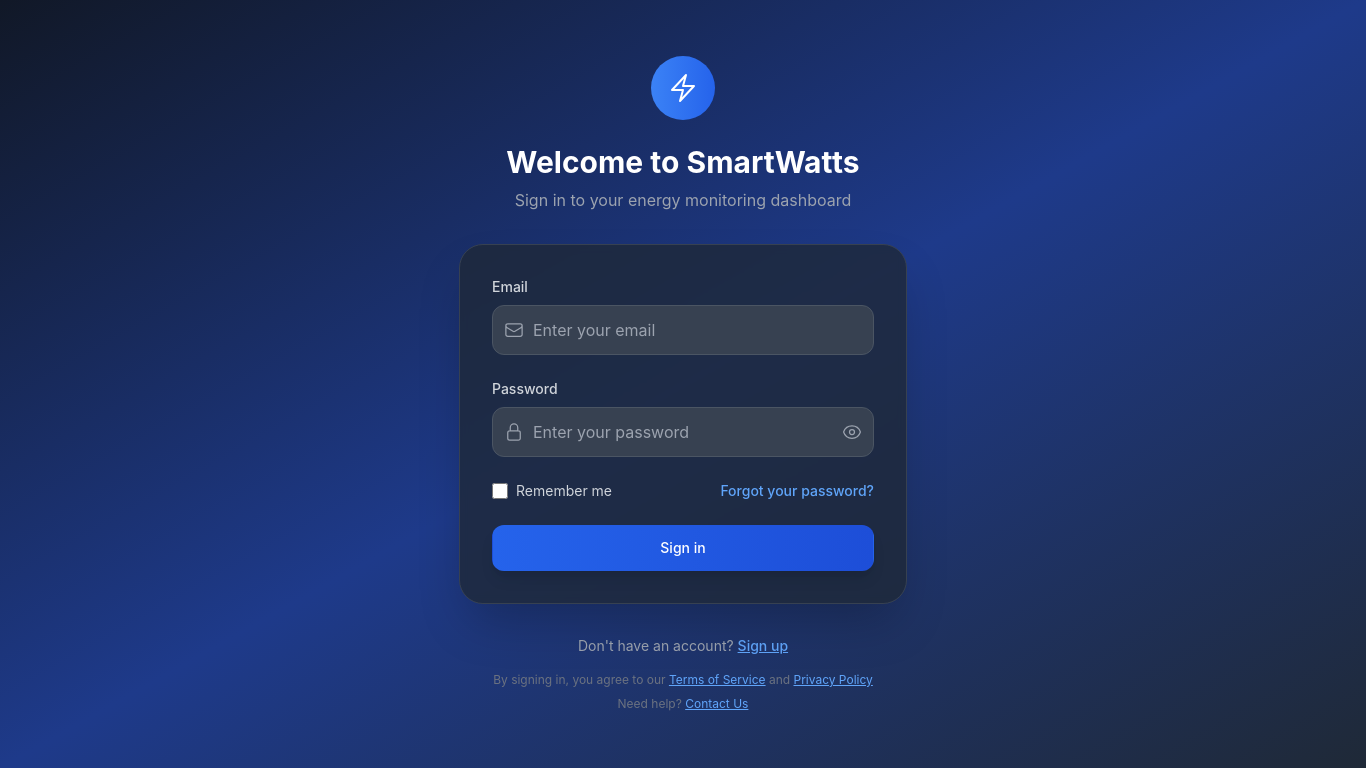
Test: Login Page › shows loading state during login
This screenshot has width=1366, height=768.
Step 1. Type "test@example.com" into the field labelled "Email" → (683, 330), box [492,305,874,355]
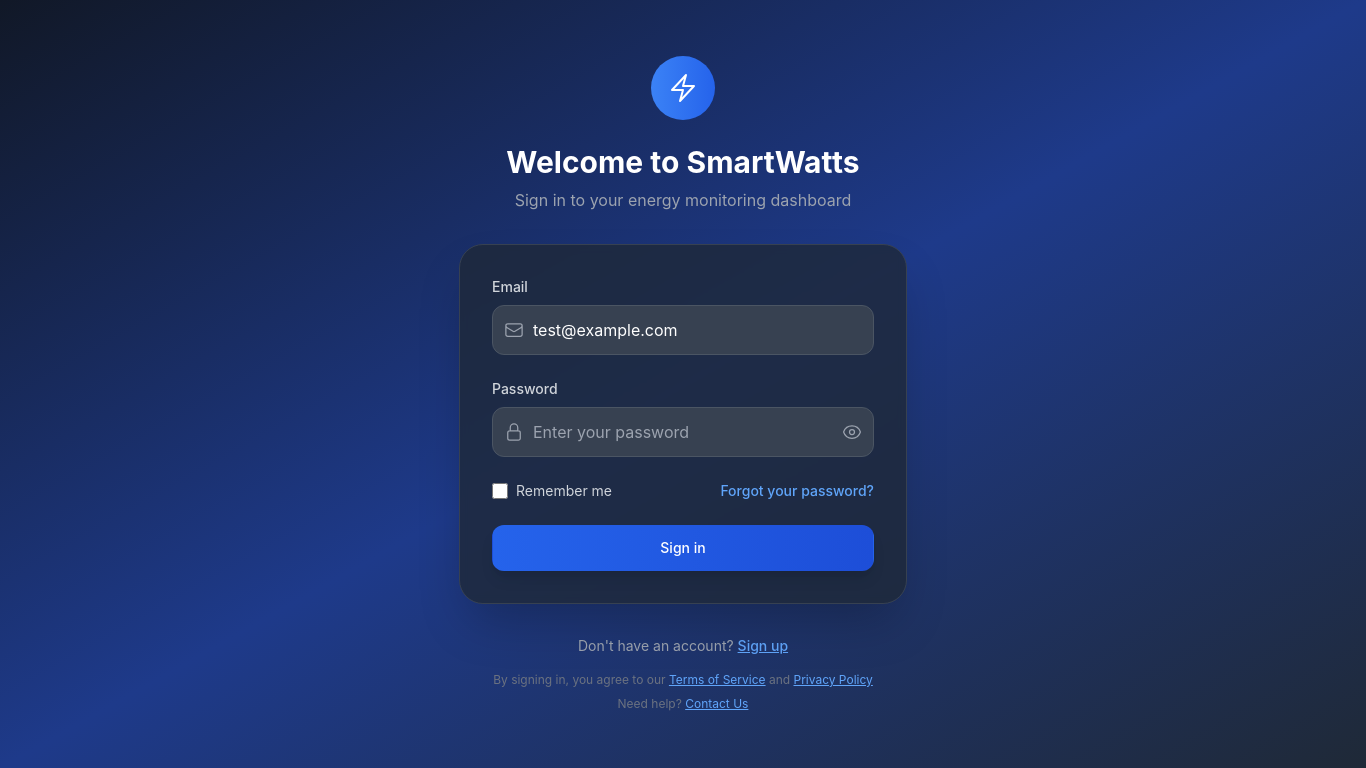
Step 2. Type "password123" into the password field labelled "Password" → (683, 432), box [492,407,874,457]
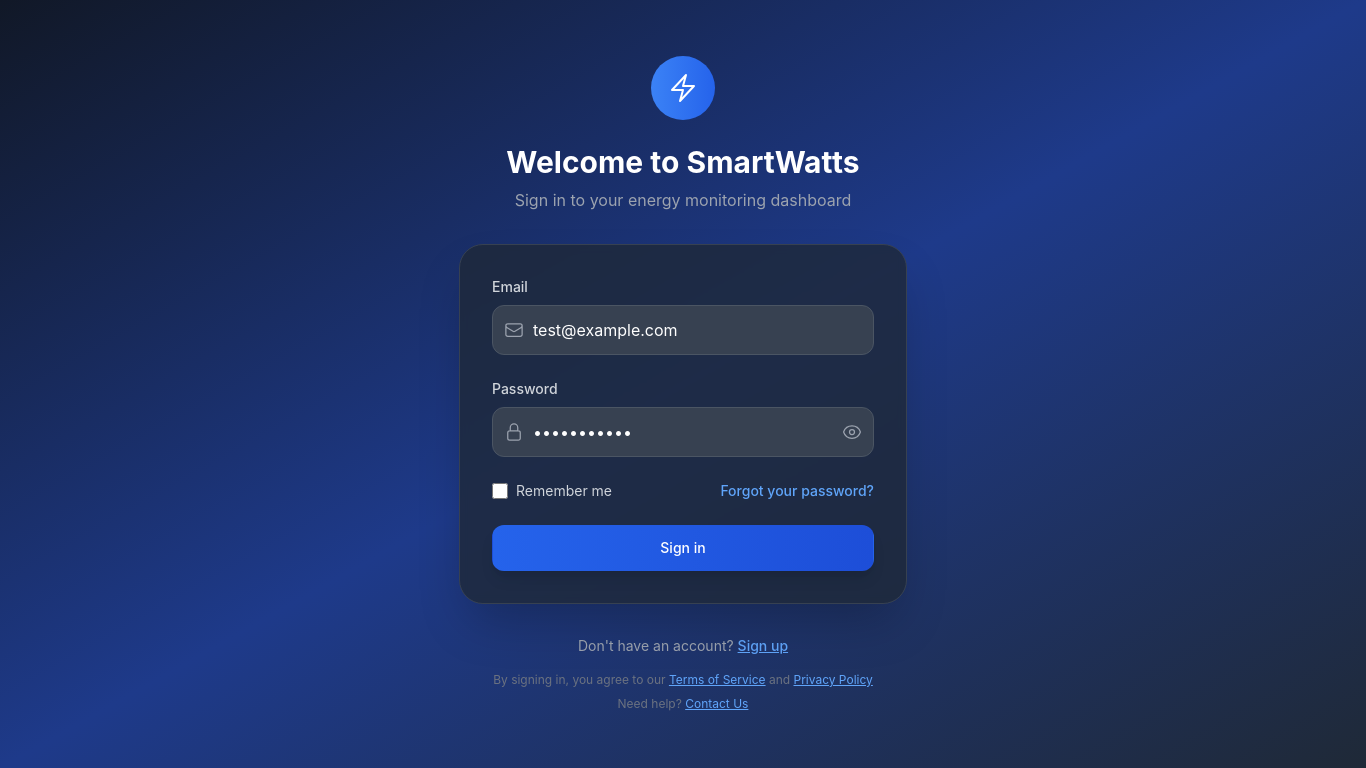
Step 3. Click the button "Sign in" → (683, 548), box [492,525,874,571]
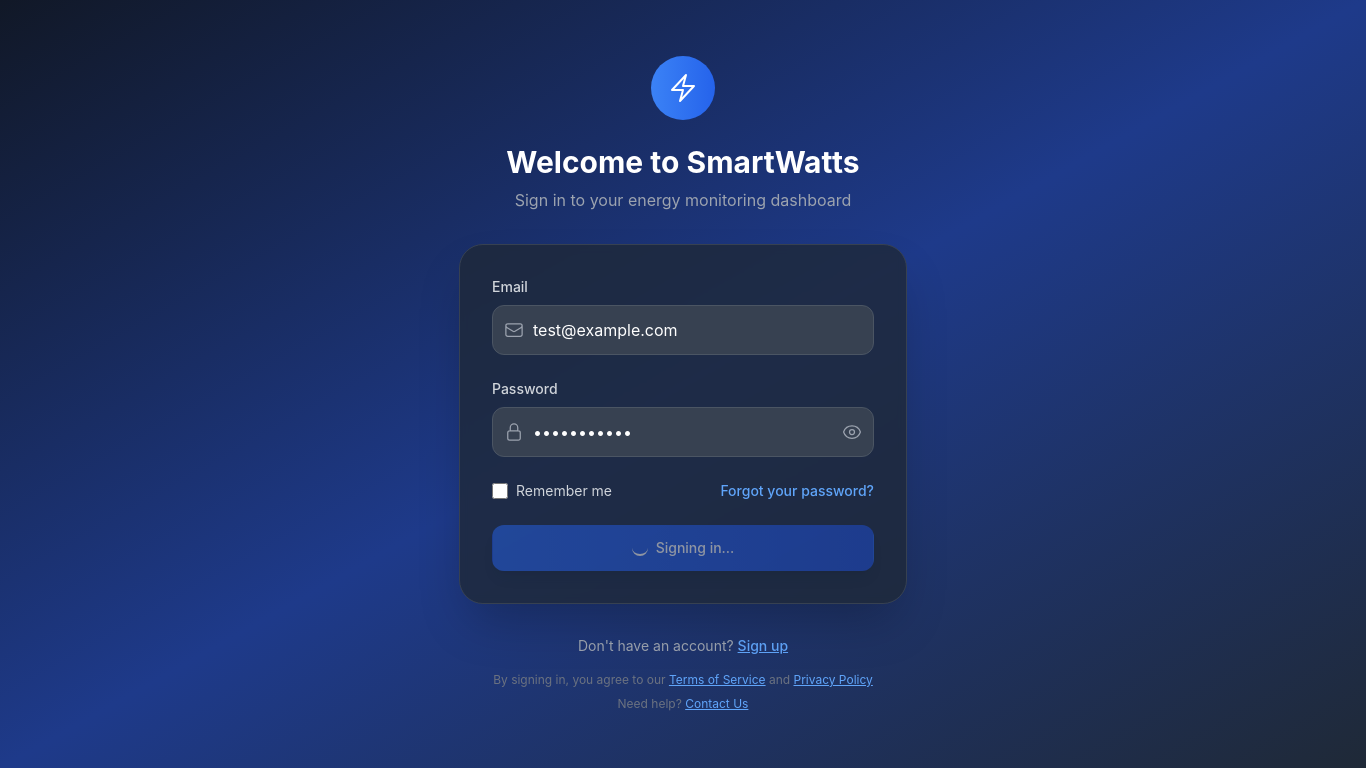
Result: the text "Signing in..." is shown at [632,538,734,558]
Result: the button "Signing in..." is disabled at [492,525,874,571]
